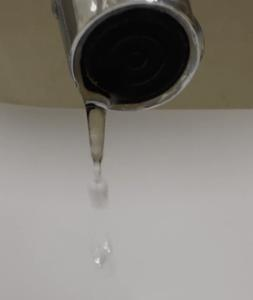water drop: (80, 91, 110, 208), (88, 229, 113, 267)
